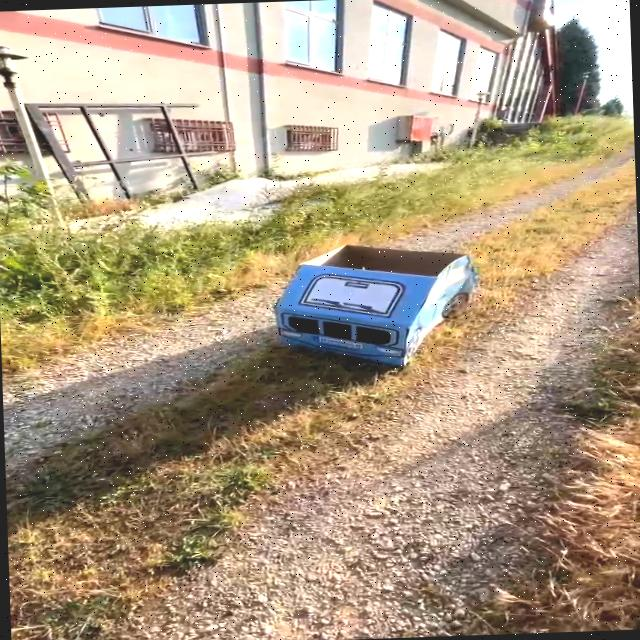blue_car: (234, 224, 497, 407)
